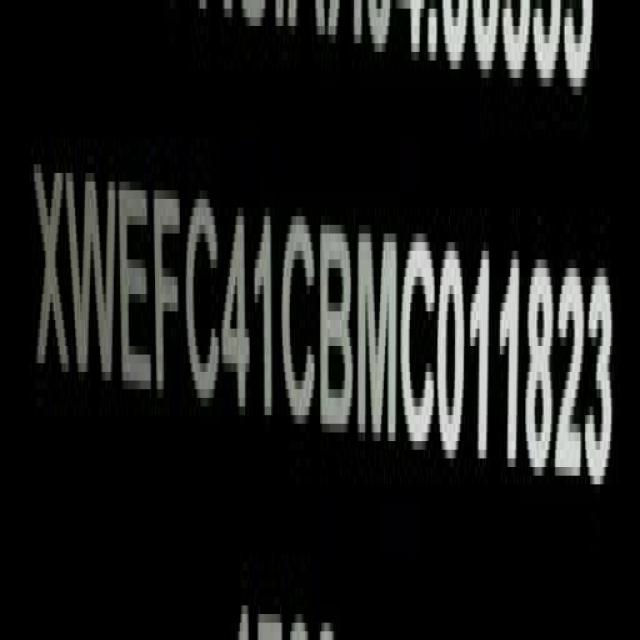0: (439, 238, 466, 463)
1: (500, 243, 522, 476), (256, 201, 276, 428), (469, 246, 488, 473)
2: (557, 260, 586, 489)
3: (585, 266, 612, 494)
4: (222, 206, 250, 427)
8: (526, 251, 553, 478)
B: (320, 218, 354, 443)
C: (283, 209, 320, 435), (401, 231, 436, 456), (190, 186, 222, 412)
E: (119, 171, 154, 405)
F: (154, 186, 181, 426)
M: (361, 223, 400, 451)
W: (72, 153, 118, 399)
X: (36, 151, 70, 393)
